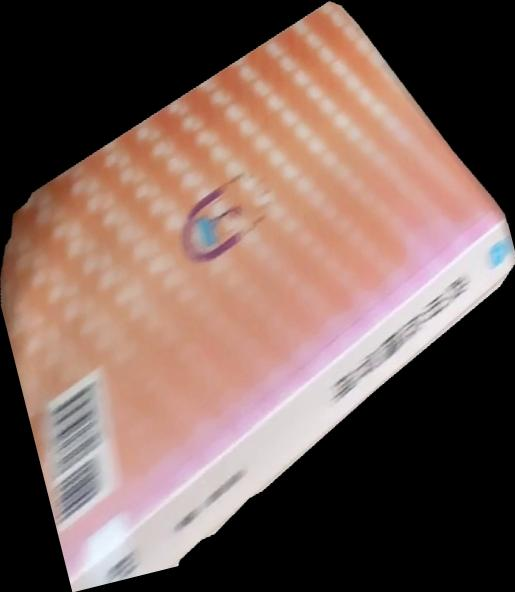flat: (1, 1, 515, 592)
